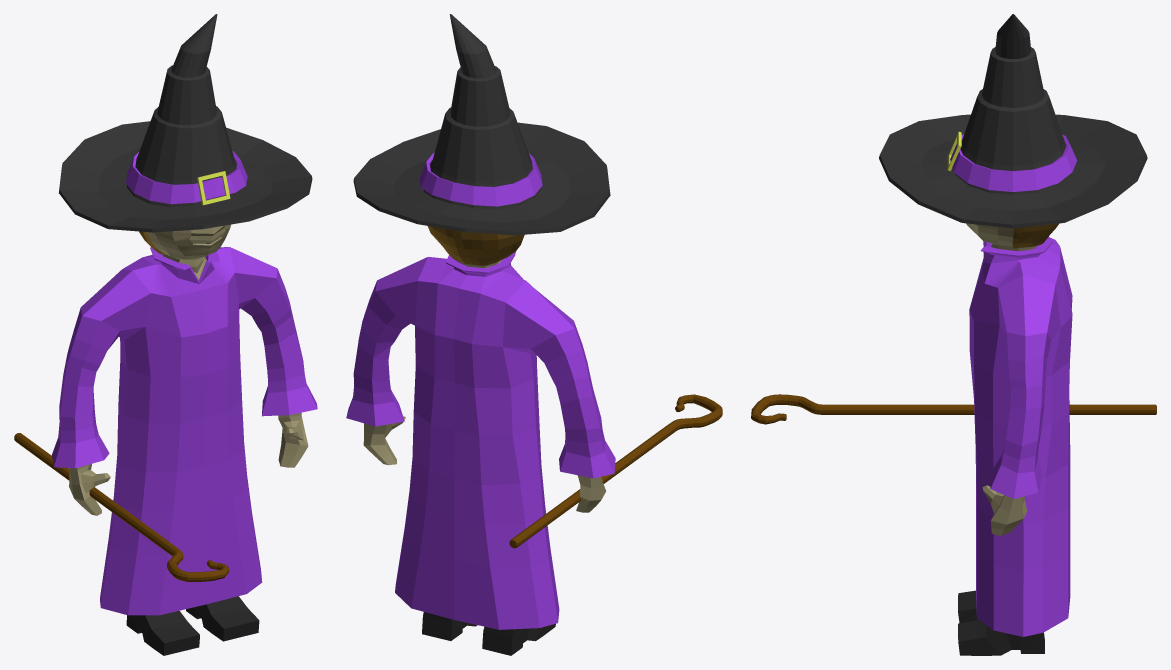
Rendered from wiz.glb.
3 views of the same model, side by side, from view 1: azimuth 30°, elevation 25°; view 2: azimuth 150°, elevation 25°; view 3: azimuth 270°, elevation 25° (orthographic). The views are drawn at different scales.
Visible parts, largest first — view 1: model_9.001; view 2: model_9.001; view 3: model_9.001.
Boxes of the visible parts, left/top/right/bottom form: model_9.001: left=14, top=14, right=317, bottom=655; model_9.001: left=346, top=14, right=722, bottom=655; model_9.001: left=751, top=14, right=1156, bottom=655.
Size of the model in its own units: 19.22 by 42.24 by 24.53.
